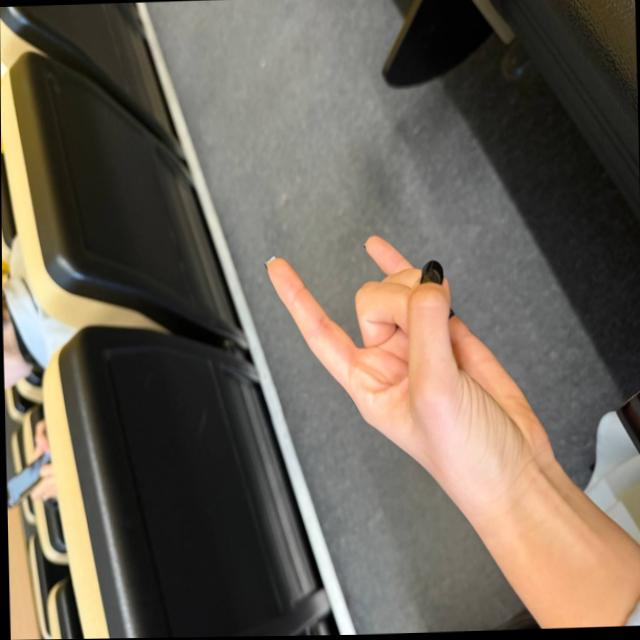y: (253, 212, 539, 478)
